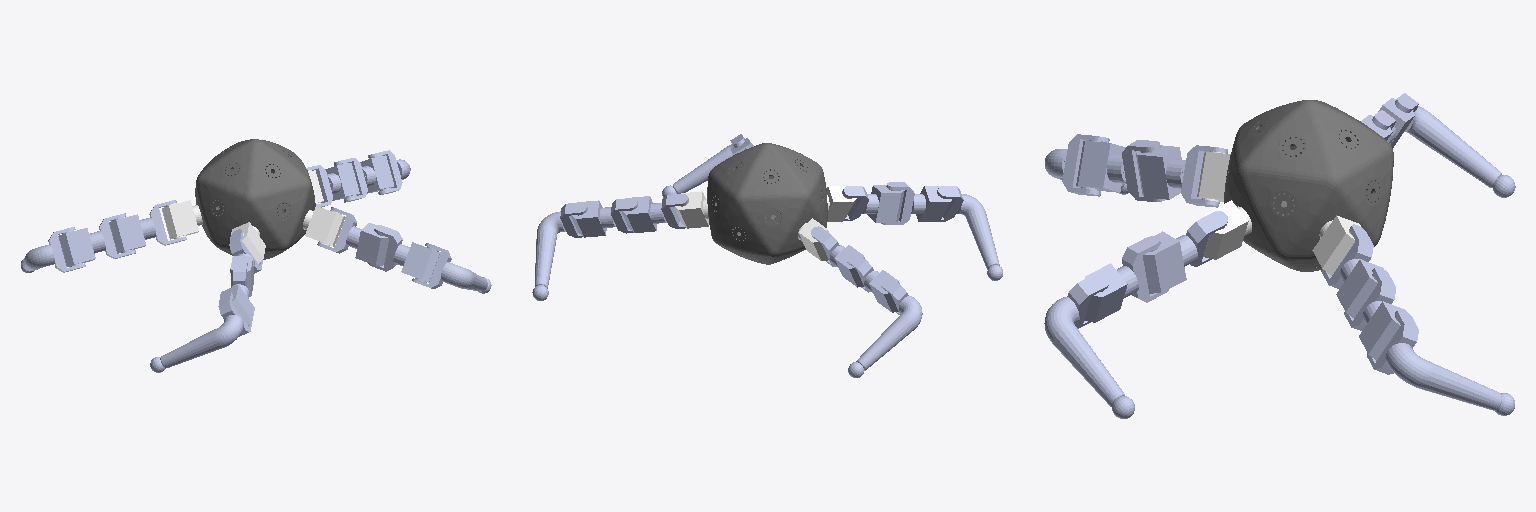
robot.urdf — mod_test:
<?xml version="1.0" encoding="utf-8"?>
<robot
  name="mod_test">
  <link
    name="base_link">
    <inertial>
      <origin
        xyz="-1.5226495220944E-06 1.5812928362389E-07 -5.05247252856584E-07"
        rpy="0 0 0" />
      <mass
        value="0.422806992949252" />
      <inertia
        ixx="0.00237499139253511"
        ixy="1.5717831530364E-08"
        ixz="1.49286265366169E-08"
        iyy="0.00237502154661776"
        iyz="-2.02154172619351E-08"
        izz="0.00237502595466009" />
    </inertial>
    <visual>
      <origin
        xyz="0 0 0"
        rpy="0 0 0" />
      <geometry>
        <mesh
          filename="package://meshes/base_link.STL" />
      </geometry>
      <material
        name="">
        <color
          rgba="0.498039215686275 0.498039215686275 0.498039215686275 1" />
      </material>
    </visual>
    <collision>
      <origin
        xyz="0 0 0"
        rpy="0 0 0" />
      <geometry>
        <mesh
          filename="package://meshes/base_link.STL" />
      </geometry>
    </collision>
  </link>
  <link
   name="100">
   <inertial>
      <origin
        xyz="0 0 0.028508"
        rpy="0 0 0" />
      <mass
        value="0.076173" />
      <inertia
        ixx="3.054E-05"
        ixy="0.000000"
        ixz="-0.000000"
        iyy="2.1077E-05"
        iyz="-0.000000"
        izz="2.1165E-05" />
    </inertial>
    <visual>
      <origin
        xyz="0 0 0"
        rpy="0 0 0" />
      <geometry>
        <mesh
          filename="package://meshes/1.STL" />
      </geometry>
      <material
        name="">
        <color
          rgba="1 1 1 1" />
      </material>
    </visual>
    <collision>
      <origin
        xyz="0 0 0"
        rpy="0 0 0" />
      <geometry>
        <mesh
          filename="package://meshes/1.STL" />
      </geometry>
    </collision>
  </link>
  <joint
    name="body_100"
    type="fixed">
    <origin
        xyz="0.051620 -0.071049 -0.016769"
        rpy="1.787804 0.513383 0.736182" />
    <parent
      link="base_link" />
    <child
      link="100" />
    <axis
      xyz="0 0 0" />
  </joint>
  <link
    name="101">
    <inertial>
      <origin
        xyz="0.060018 -1.4108E-06 1.4108E-06"
        rpy="0 0 0" />
    <mass
        value="0.10689" />
      <inertia
        ixx="3.2684e-05"
        ixy="-2.5662e-09"
        ixz="2.5662e-09"
        iyy="9.1229e-05"
        iyz="4.0975e-06"
        izz="7.7485e-05" />
    </inertial>
    <visual>
      <origin
        xyz="0 0 0"
        rpy="0 0 0" />
      <geometry>
        <mesh
          filename="package://meshes/module1.STL" />
      </geometry>
      <material
        name="">
        <color
          rgba="0.79216 0.81961 0.93333 1" />
      </material>
    </visual>
    <collision>
      <origin
        xyz="0 0 0"
        rpy="0 0 0" />
      <geometry>
        <mesh
          filename="package://meshes/module1.STL" />
      </geometry>
    </collision>
  </link>
  <joint
    name="100_101"
    type="revolute">
    <origin
      xyz="0 0 0.04"
      rpy="-1.558 -1.5708 -0.012835" />
    <parent
      link="100" />
    <child
      link="101" />
    <axis
      xyz="0 0 1" />
    <limit
      lower="-6.28"
      upper="6.28"
      effort="10"
      velocity="100" />
  </joint>
  <link
    name="102">
    <inertial>
      <origin
        xyz="0.060018 -1.4108E-06 1.4108E-06"
        rpy="0 0 0" />
    <mass
        value="0.10689" />
      <inertia
        ixx="3.2684e-05"
        ixy="-2.5662e-09"
        ixz="2.5662e-09"
        iyy="9.1229e-05"
        iyz="-4.0975e-06"
        izz="7.7485e-05" />
    </inertial>
    <visual>
      <origin
        xyz="0 0 0"
        rpy="0 0 0" />
      <geometry>
        <mesh
          filename="package://meshes/module5.STL" />
      </geometry>
      <material
        name="">
        <color
          rgba="0.79216 0.81961 0.93333 1" />
      </material>
    </visual>
    <collision>
      <origin
        xyz="0 0 0"
        rpy="0 0 0" />
      <geometry>
        <mesh
          filename="package://meshes/module5.STL" />
      </geometry>
    </collision>
  </link>
  <joint
    name="101_102"
    type="revolute">
    <origin
      xyz="0.0816 0 0"
      rpy="0.523599 0 0" />
    <parent
      link="101" />
    <child
      link="102" />
    <axis
      xyz="0 0 1" />
    <limit
      lower="-6.28"
      upper="6.28"
      effort="10"
      velocity="100" />
  </joint>
  <link
    name="103">
    <inertial>
      <origin
        xyz="0.051733 -0.042281 -1.3878E-17"
        rpy="0 0 0" />
    <mass
        value="0.12059" />
      <inertia
        ixx="0.00025425"
        ixy="4.8319E-05"
        ixz="0"
        iyy="5.0194E-05"
        iyz="-3.3141E-21"
        izz="0.00027482" />
    </inertial>
    <visual>
      <origin
        xyz="0 0 0"
        rpy="0 0 0" />
      <geometry>
        <mesh
          filename="package://meshes/leg.STL" />
      </geometry>
      <material
        name="">
        <color
          rgba="0.79216 0.81961 0.93333 1" />
      </material>
    </visual>
    <collision>
      <origin
        xyz="0 0 0"
        rpy="0 0 0" />
      <geometry>
        <mesh
          filename="package://meshes/leg.STL" />
      </geometry>
    </collision>
  </link>
  <joint
    name="102_103"
    type="revolute">
    <origin
      xyz="0.0816 0 0"
      rpy="2.617994 0 0" />
    <parent
      link="102" />
    <child
      link="103" />
    <axis
      xyz="0 0 1" />
    <limit
      lower="-6.28"
      upper="6.28"
      effort="10"
      velocity="100" />
  </joint>
  <link
   name="110">
   <inertial>
      <origin
        xyz="0 0 0.028508"
        rpy="0 0 0" />
      <mass
        value="0.076173" />
      <inertia
        ixx="3.054E-05"
        ixy="0.000000"
        ixz="-0.000000"
        iyy="2.1077E-05"
        iyz="-0.000000"
        izz="2.1165E-05" />
    </inertial>
    <visual>
      <origin
        xyz="0 0 0"
        rpy="0 0 0" />
      <geometry>
        <mesh
          filename="package://meshes/1.STL" />
      </geometry>
      <material
        name="">
        <color
          rgba="1 1 1 1" />
      </material>
    </visual>
    <collision>
      <origin
        xyz="0 0 0"
        rpy="0 0 0" />
      <geometry>
        <mesh
          filename="package://meshes/1.STL" />
      </geometry>
    </collision>
  </link>
  <joint
    name="body_110"
    type="fixed">
    <origin
        xyz="0.083523 0.027138 -0.016769"
        rpy="1.787804 0.513383 1.992819" />
    <parent
      link="base_link" />
    <child
      link="110" />
    <axis
      xyz="0 0 0" />
  </joint>
  <link
    name="111">
    <inertial>
      <origin
        xyz="0.060018 -1.4108E-06 1.4108E-06"
        rpy="0 0 0" />
    <mass
        value="0.10689" />
      <inertia
        ixx="3.2684e-05"
        ixy="-2.5662e-09"
        ixz="2.5662e-09"
        iyy="9.3595e-05"
        iyz="-2.1275e-13"
        izz="7.512e-05" />
    </inertial>
    <visual>
      <origin
        xyz="0 0 0"
        rpy="0 0 0" />
      <geometry>
        <mesh
          filename="package://meshes/module0.STL" />
      </geometry>
      <material
        name="">
        <color
          rgba="0.79216 0.81961 0.93333 1" />
      </material>
    </visual>
    <collision>
      <origin
        xyz="0 0 0"
        rpy="0 0 0" />
      <geometry>
        <mesh
          filename="package://meshes/module0.STL" />
      </geometry>
    </collision>
  </link>
  <joint
    name="110_111"
    type="revolute">
    <origin
      xyz="0 0 0.04"
      rpy="-1.558 -1.5708 -0.012835" />
    <parent
      link="110" />
    <child
      link="111" />
    <axis
      xyz="0 0 1" />
    <limit
      lower="-6.28"
      upper="6.28"
      effort="10"
      velocity="100" />
  </joint>
  <link
    name="112">
    <inertial>
      <origin
        xyz="0.060018 -1.4108E-06 1.4108E-06"
        rpy="0 0 0" />
    <mass
        value="0.10689" />
      <inertia
        ixx="3.2684e-05"
        ixy="-2.5662e-09"
        ixz="2.5662e-09"
        iyy="9.3595e-05"
        iyz="-2.1275e-13"
        izz="7.512e-05" />
    </inertial>
    <visual>
      <origin
        xyz="0 0 0"
        rpy="0 0 0" />
      <geometry>
        <mesh
          filename="package://meshes/module6.STL" />
      </geometry>
      <material
        name="">
        <color
          rgba="0.79216 0.81961 0.93333 1" />
      </material>
    </visual>
    <collision>
      <origin
        xyz="0 0 0"
        rpy="0 0 0" />
      <geometry>
        <mesh
          filename="package://meshes/module6.STL" />
      </geometry>
    </collision>
  </link>
  <joint
    name="111_112"
    type="revolute">
    <origin
      xyz="0.0816 0 0"
      rpy="0.000000 0 0" />
    <parent
      link="111" />
    <child
      link="112" />
    <axis
      xyz="0 0 1" />
    <limit
      lower="-6.28"
      upper="6.28"
      effort="10"
      velocity="100" />
  </joint>
  <link
    name="113">
    <inertial>
      <origin
        xyz="0.051733 -0.042281 -1.3878E-17"
        rpy="0 0 0" />
    <mass
        value="0.12059" />
      <inertia
        ixx="0.00025425"
        ixy="4.8319E-05"
        ixz="0"
        iyy="5.0194E-05"
        iyz="-3.3141E-21"
        izz="0.00027482" />
    </inertial>
    <visual>
      <origin
        xyz="0 0 0"
        rpy="0 0 0" />
      <geometry>
        <mesh
          filename="package://meshes/leg.STL" />
      </geometry>
      <material
        name="">
        <color
          rgba="0.79216 0.81961 0.93333 1" />
      </material>
    </visual>
    <collision>
      <origin
        xyz="0 0 0"
        rpy="0 0 0" />
      <geometry>
        <mesh
          filename="package://meshes/leg.STL" />
      </geometry>
    </collision>
  </link>
  <joint
    name="112_113"
    type="revolute">
    <origin
      xyz="0.0816 0 0"
      rpy="3.141593 0 0" />
    <parent
      link="112" />
    <child
      link="113" />
    <axis
      xyz="0 0 1" />
    <limit
      lower="-6.28"
      upper="6.28"
      effort="10"
      velocity="100" />
  </joint>
  <link
   name="130">
   <inertial>
      <origin
        xyz="0 0 0.028508"
        rpy="0 0 0" />
      <mass
        value="0.076173" />
      <inertia
        ixx="3.054E-05"
        ixy="-0.000000"
        ixz="-0.000000"
        iyy="2.1077E-05"
        iyz="-0.000000"
        izz="2.1165E-05" />
    </inertial>
    <visual>
      <origin
        xyz="0 0 0"
        rpy="0 0 0" />
      <geometry>
        <mesh
          filename="package://meshes/1.STL" />
      </geometry>
      <material
        name="">
        <color
          rgba="1 1 1 1" />
      </material>
    </visual>
    <collision>
      <origin
        xyz="0 0 0"
        rpy="0 0 0" />
      <geometry>
        <mesh
          filename="package://meshes/1.STL" />
      </geometry>
    </collision>
  </link>
  <joint
    name="body_130"
    type="fixed">
    <origin
        xyz="-0.083523 0.027138 -0.016769"
        rpy="-1.787804 0.513383 1.148774" />
    <parent
      link="base_link" />
    <child
      link="130" />
    <axis
      xyz="0 0 0" />
  </joint>
  <link
    name="131">
    <inertial>
      <origin
        xyz="0.060018 -1.4108E-06 1.4108E-06"
        rpy="0 0 0" />
    <mass
        value="0.10689" />
      <inertia
        ixx="3.2684e-05"
        ixy="-2.5662e-09"
        ixz="2.5662e-09"
        iyy="9.3595e-05"
        iyz="-2.1275e-13"
        izz="7.512e-05" />
    </inertial>
    <visual>
      <origin
        xyz="0 0 0"
        rpy="0 0 0" />
      <geometry>
        <mesh
          filename="package://meshes/module0.STL" />
      </geometry>
      <material
        name="">
        <color
          rgba="0.79216 0.81961 0.93333 1" />
      </material>
    </visual>
    <collision>
      <origin
        xyz="0 0 0"
        rpy="0 0 0" />
      <geometry>
        <mesh
          filename="package://meshes/module0.STL" />
      </geometry>
    </collision>
  </link>
  <joint
    name="130_131"
    type="revolute">
    <origin
      xyz="0 0 0.04"
      rpy="-1.558 -1.5708 -0.012835" />
    <parent
      link="130" />
    <child
      link="131" />
    <axis
      xyz="0 0 1" />
    <limit
      lower="-6.28"
      upper="6.28"
      effort="10"
      velocity="100" />
  </joint>
  <link
    name="132">
    <inertial>
      <origin
        xyz="0.060018 -1.4108E-06 1.4108E-06"
        rpy="0 0 0" />
    <mass
        value="0.10689" />
      <inertia
        ixx="3.2684e-05"
        ixy="-2.5662e-09"
        ixz="2.5662e-09"
        iyy="9.3595e-05"
        iyz="-2.1275e-13"
        izz="7.512e-05" />
    </inertial>
    <visual>
      <origin
        xyz="0 0 0"
        rpy="0 0 0" />
      <geometry>
        <mesh
          filename="package://meshes/module6.STL" />
      </geometry>
      <material
        name="">
        <color
          rgba="0.79216 0.81961 0.93333 1" />
      </material>
    </visual>
    <collision>
      <origin
        xyz="0 0 0"
        rpy="0 0 0" />
      <geometry>
        <mesh
          filename="package://meshes/module6.STL" />
      </geometry>
    </collision>
  </link>
  <joint
    name="131_132"
    type="revolute">
    <origin
      xyz="0.0816 0 0"
      rpy="0.000000 0 0" />
    <parent
      link="131" />
    <child
      link="132" />
    <axis
      xyz="0 0 1" />
    <limit
      lower="-6.28"
      upper="6.28"
      effort="10"
      velocity="100" />
  </joint>
  <link
    name="133">
    <inertial>
      <origin
        xyz="0.051733 -0.042281 -1.3878E-17"
        rpy="0 0 0" />
    <mass
        value="0.12059" />
      <inertia
        ixx="0.00025425"
        ixy="4.8319E-05"
        ixz="0"
        iyy="5.0194E-05"
        iyz="-3.3141E-21"
        izz="0.00027482" />
    </inertial>
    <visual>
      <origin
        xyz="0 0 0"
        rpy="0 0 0" />
      <geometry>
        <mesh
          filename="package://meshes/leg.STL" />
      </geometry>
      <material
        name="">
        <color
          rgba="0.79216 0.81961 0.93333 1" />
      </material>
    </visual>
    <collision>
      <origin
        xyz="0 0 0"
        rpy="0 0 0" />
      <geometry>
        <mesh
          filename="package://meshes/leg.STL" />
      </geometry>
    </collision>
  </link>
  <joint
    name="132_133"
    type="revolute">
    <origin
      xyz="0.0816 0 0"
      rpy="3.141593 0 0" />
    <parent
      link="132" />
    <child
      link="133" />
    <axis
      xyz="0 0 1" />
    <limit
      lower="-6.28"
      upper="6.28"
      effort="10"
      velocity="100" />
  </joint>
  <link
   name="140">
   <inertial>
      <origin
        xyz="0 0 0.028508"
        rpy="0 0 0" />
      <mass
        value="0.076173" />
      <inertia
        ixx="3.054E-05"
        ixy="-0.000000"
        ixz="-0.000000"
        iyy="2.1077E-05"
        iyz="-0.000000"
        izz="2.1165E-05" />
    </inertial>
    <visual>
      <origin
        xyz="0 0 0"
        rpy="0 0 0" />
      <geometry>
        <mesh
          filename="package://meshes/1.STL" />
      </geometry>
      <material
        name="">
        <color
          rgba="1 1 1 1" />
      </material>
    </visual>
    <collision>
      <origin
        xyz="0 0 0"
        rpy="0 0 0" />
      <geometry>
        <mesh
          filename="package://meshes/1.STL" />
      </geometry>
    </collision>
  </link>
  <joint
    name="body_140"
    type="fixed">
    <origin
        xyz="-0.051620 -0.071049 -0.016769"
        rpy="-1.787804 0.513383 2.405411" />
    <parent
      link="base_link" />
    <child
      link="140" />
    <axis
      xyz="0 0 0" />
  </joint>
  <link
    name="141">
    <inertial>
      <origin
        xyz="0.060018 -1.4108E-06 1.4108E-06"
        rpy="0 0 0" />
    <mass
        value="0.10689" />
      <inertia
        ixx="3.2684e-05"
        ixy="-2.5662e-09"
        ixz="2.5662e-09"
        iyy="9.1229e-05"
        iyz="-4.0975e-06"
        izz="7.7485e-05" />
    </inertial>
    <visual>
      <origin
        xyz="0 0 0"
        rpy="0 0 0" />
      <geometry>
        <mesh
          filename="package://meshes/module11.STL" />
      </geometry>
      <material
        name="">
        <color
          rgba="0.79216 0.81961 0.93333 1" />
      </material>
    </visual>
    <collision>
      <origin
        xyz="0 0 0"
        rpy="0 0 0" />
      <geometry>
        <mesh
          filename="package://meshes/module11.STL" />
      </geometry>
    </collision>
  </link>
  <joint
    name="140_141"
    type="revolute">
    <origin
      xyz="0 0 0.04"
      rpy="-1.558 -1.5708 -0.012835" />
    <parent
      link="140" />
    <child
      link="141" />
    <axis
      xyz="0 0 1" />
    <limit
      lower="-6.28"
      upper="6.28"
      effort="10"
      velocity="100" />
  </joint>
  <link
    name="142">
    <inertial>
      <origin
        xyz="0.060018 -1.4108E-06 1.4108E-06"
        rpy="0 0 0" />
    <mass
        value="0.10689" />
      <inertia
        ixx="3.2684e-05"
        ixy="-2.5662e-09"
        ixz="2.5662e-09"
        iyy="9.1229e-05"
        iyz="4.0975e-06"
        izz="7.7485e-05" />
    </inertial>
    <visual>
      <origin
        xyz="0 0 0"
        rpy="0 0 0" />
      <geometry>
        <mesh
          filename="package://meshes/module7.STL" />
      </geometry>
      <material
        name="">
        <color
          rgba="0.79216 0.81961 0.93333 1" />
      </material>
    </visual>
    <collision>
      <origin
        xyz="0 0 0"
        rpy="0 0 0" />
      <geometry>
        <mesh
          filename="package://meshes/module7.STL" />
      </geometry>
    </collision>
  </link>
  <joint
    name="141_142"
    type="revolute">
    <origin
      xyz="0.0816 0 0"
      rpy="5.759587 0 0" />
    <parent
      link="141" />
    <child
      link="142" />
    <axis
      xyz="0 0 1" />
    <limit
      lower="-6.28"
      upper="6.28"
      effort="10"
      velocity="100" />
  </joint>
  <link
    name="143">
    <inertial>
      <origin
        xyz="0.051733 -0.042281 -1.3878E-17"
        rpy="0 0 0" />
    <mass
        value="0.12059" />
      <inertia
        ixx="0.00025425"
        ixy="4.8319E-05"
        ixz="0"
        iyy="5.0194E-05"
        iyz="-3.3141E-21"
        izz="0.00027482" />
    </inertial>
    <visual>
      <origin
        xyz="0 0 0"
        rpy="0 0 0" />
      <geometry>
        <mesh
          filename="package://meshes/leg.STL" />
      </geometry>
      <material
        name="">
        <color
          rgba="0.79216 0.81961 0.93333 1" />
      </material>
    </visual>
    <collision>
      <origin
        xyz="0 0 0"
        rpy="0 0 0" />
      <geometry>
        <mesh
          filename="package://meshes/leg.STL" />
      </geometry>
    </collision>
  </link>
  <joint
    name="142_143"
    type="revolute">
    <origin
      xyz="0.0816 0 0"
      rpy="3.665191 0 0" />
    <parent
      link="142" />
    <child
      link="143" />
    <axis
      xyz="0 0 1" />
    <limit
      lower="-6.28"
      upper="6.28"
      effort="10"
      velocity="100" />
  </joint>
  <link
    name = "ball_1">
    <inertial>
    <origin
        xyz="0 0 0"
        rpy="0 0 0" />
    <mass
        value="0" />
      <inertia
        ixx="0"
        ixy="0"
        ixz="0"
        iyy="0"
        iyz="0"
        izz="0" />
    </inertial>    <visual>
      <origin
        xyz="0 0 0"
        rpy="0 0 0" />
     <geometry>
        <sphere radius = "0.01"/>
      </geometry>
      <material
        name="green">
        <color
          rgba="0.22 1 0.4 1" />
      </material>
    </visual>
  </link>
  <joint
  name="103_ball1"
  type="fixed">
    <origin
      xyz="0.0612 -0.13431 0"
      rpy="0 0 0" />
    <parent
      link="103" />
    <child
      link="ball_1" />
    <axis
      xyz="0 0 0" />
  </joint>
  <link
    name = "ball_2">
    <inertial>
    <origin
        xyz="0 0 0"
        rpy="0 0 0" />
    <mass
        value="0" />
      <inertia
        ixx="0"
        ixy="0"
        ixz="0"
        iyy="0"
        iyz="0"
        izz="0" />
    </inertial>    <visual>
      <origin
        xyz="0 0 0"
        rpy="0 0 0" />
      <geometry>
        <sphere radius = "0.01"/>
      </geometry>
      <material
        name="blue">
        <color
          rgba="0.16 0.52 0.8 1" />
      </material>
    </visual>
  </link>
  <joint
  name="113_ball2"
  type="fixed">
    <origin
      xyz="0.0612 -0.13431 0"
      rpy="0 0 0" />
    <parent
      link="113" />
    <child
      link="ball_2" />
    <axis
      xyz="0 0 0" />
  </joint>
  <link
    name = "ball_3">
    <inertial>
    <origin
        xyz="0 0 0"
        rpy="0 0 0" />
    <mass
        value="0" />
      <inertia
        ixx="0"
        ixy="0"
        ixz="0"
        iyy="0"
        iyz="0"
        izz="0" />
    </inertial>    <visual>
      <origin
        xyz="0 0 0"
        rpy="0 0 0" />
     <geometry>
        <sphere radius = "0.01"/>
      </geometry>
      <material
        name="blue">
        <color
          rgba="0.16 0.52 0.8 1" />
      </material>
    </visual>
  </link>
  <joint
  name="133_ball3"
  type="fixed">
    <origin
      xyz="0.0612 -0.13431 0"
      rpy="0 0 0" />
    <parent
      link="133" />
    <child
      link="ball_3" />
    <axis
      xyz="0 0 0" />
  </joint>
  <link
    name = "ball_4">
    <inertial>
    <origin
        xyz="0 0 0"
        rpy="0 0 0" />
    <mass
        value="0" />
      <inertia
        ixx="0"
        ixy="0"
        ixz="0"
        iyy="0"
        iyz="0"
        izz="0" />
    </inertial>    <visual>
      <origin
        xyz="0 0 0"
        rpy="0 0 0" />
      <geometry>
        <sphere radius = "0.01"/>
      </geometry>
      <material
        name="yellow">
        <color
          rgba="1 1 0 1" />
      </material>
    </visual>
  </link>
  <joint
  name="143_ball4"
  type="fixed">
    <origin
      xyz="0.0612 -0.13431 0"
      rpy="0 0 0" />
    <parent
      link="143" />
    <child
      link="ball_4" />
    <axis
      xyz="0 0 0" />
  </joint>
</robot>

--- Render facts (derived) ---
The picture shows the robot from 3 angles, left to right: view 1: azimuth 30°, elevation 25°; view 2: azimuth 150°, elevation 25°; view 3: azimuth 270°, elevation 25°; orthographic projection.
Robot: mod_test — 21 links, 20 joints (12 revolute, 8 fixed); root link base_link; default pose: every joint at zero.
Links seen in each view (by area): view 1: base_link, 143, 102, 131, 132, 101, 103, 112, 111, 100, 133, 130 (+4 smaller); view 2: base_link, 133, 113, 143, 141, 111, 112, 142, 131, 132, 103, 110 (+2 smaller); view 3: base_link, 103, 113, 141, 133, 101, 142, 102, 111, 112, 143, 100 (+3 smaller).
Boxes of the visible links, <box> form: base_link: <box>195,139,315,259</box>; 143: <box>150,291,251,372</box>; 102: <box>368,225,439,282</box>; 131: <box>109,200,186,253</box>; 132: <box>58,213,135,266</box>; 101: <box>317,207,388,265</box>; 103: <box>412,243,491,293</box>; 112: <box>334,155,394,202</box>; 111: <box>306,162,359,207</box>; 100: <box>303,206,345,246</box>; 133: <box>21,227,85,272</box>; 130: <box>162,200,202,239</box>; base_link: <box>707,143,827,264</box>; 133: <box>848,277,922,377</box>; 113: <box>532,202,587,300</box>; 143: <box>937,186,1002,280</box>; 141: <box>843,185,904,222</box>; 111: <box>622,194,688,232</box>; 112: <box>571,198,637,237</box>; 142: <box>881,182,952,224</box>; 131: <box>811,226,864,287</box>; 132: <box>845,252,899,312</box>; 103: <box>662,134,753,197</box>; 110: <box>674,191,708,228</box>; base_link: <box>1224,100,1393,271</box>; 103: <box>1044,273,1134,418</box>; 113: <box>1367,309,1514,415</box>; 141: <box>1135,145,1227,207</box>; 133: <box>1395,93,1515,197</box>; 101: <box>1143,211,1227,293</box>; 142: <box>1076,140,1165,201</box>; 102: <box>1084,236,1168,322</box>; 111: <box>1321,224,1383,317</box>; 112: <box>1344,266,1405,360</box>; 143: <box>1045,134,1128,196</box>; 100: <box>1203,200,1251,259</box>.
Bounding box of the posed robot: 0.681 × 0.5159 × 0.2473 m (x, y, z).
17 mesh visuals loaded from 9 distinct referenced files (9 binary STL).